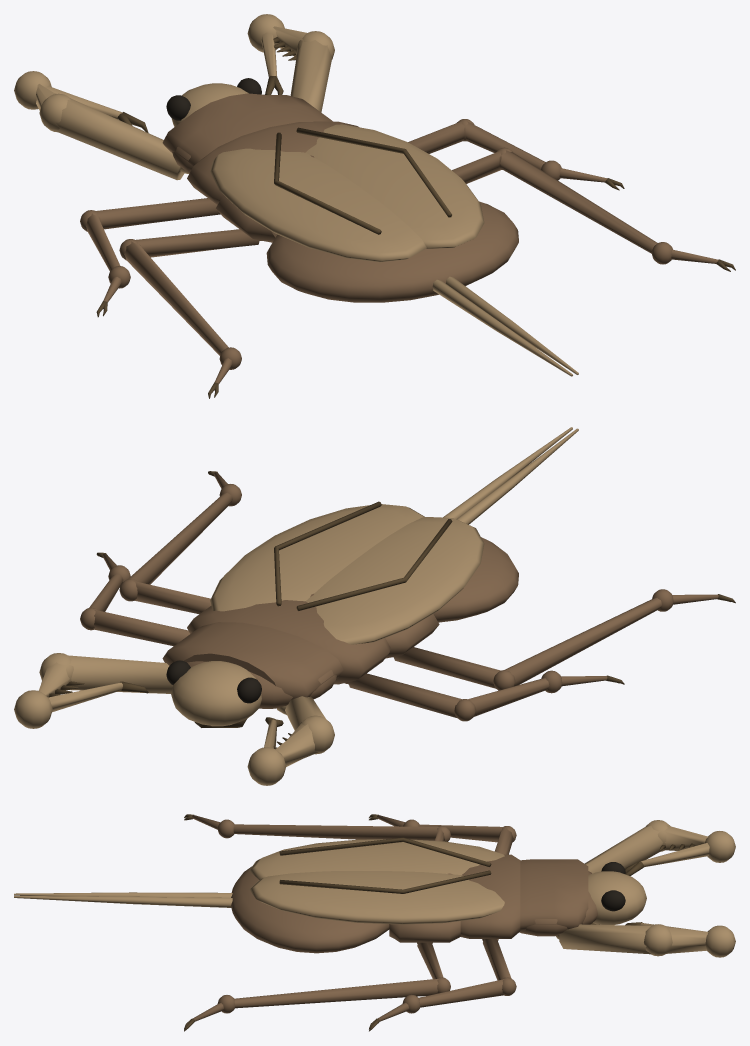
Rendered from WaterScorpion.fbx.
The picture shows the model from 3 angles, top to bottom: view 1: azimuth 30°, elevation 25°; view 2: azimuth 150°, elevation 25°; view 3: azimuth 270°, elevation 25°; orthographic projection. The views are drawn at different scales.
Visible parts, largest first — view 1: WaterScorpion_Dry_russet, WaterScorpion_Leaf_brown, WaterScorpion_Seams, WaterScorpion_Eyes; view 2: WaterScorpion_Dry_russet, WaterScorpion_Leaf_brown, WaterScorpion_Seams, WaterScorpion_Eyes; view 3: WaterScorpion_Dry_russet, WaterScorpion_Leaf_brown, WaterScorpion_Seams, WaterScorpion_Eyes.
Boxes of the visible parts, x1,y1,x2,y2 form: WaterScorpion_Dry_russet: [14, 14, 578, 376]; WaterScorpion_Leaf_brown: [80, 93, 718, 383]; WaterScorpion_Seams: [96, 37, 735, 398]; WaterScorpion_Eyes: [166, 78, 261, 120]; WaterScorpion_Dry_russet: [14, 427, 578, 785]; WaterScorpion_Leaf_brown: [80, 472, 718, 721]; WaterScorpion_Seams: [49, 471, 735, 749]; WaterScorpion_Eyes: [166, 660, 261, 703]; WaterScorpion_Dry_russet: [14, 820, 735, 957]; WaterScorpion_Leaf_brown: [192, 815, 597, 1021]; WaterScorpion_Seams: [184, 814, 702, 1031]; WaterScorpion_Eyes: [601, 862, 625, 911].
Bounding box in the file's own units: 0.7 × 0.1143 × 1.
